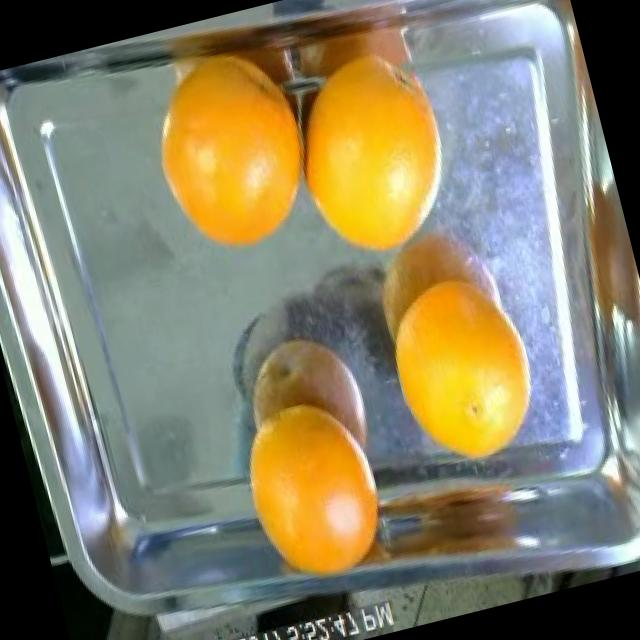Fruit: (356, 242, 568, 499), (272, 49, 482, 284), (126, 41, 329, 277), (209, 369, 398, 602)
